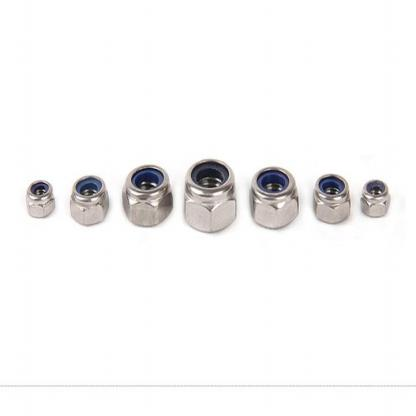FOD: (182, 156, 238, 235), (248, 163, 302, 229), (121, 163, 174, 228), (67, 172, 111, 230), (312, 170, 351, 224), (22, 177, 56, 223), (359, 176, 392, 220)
